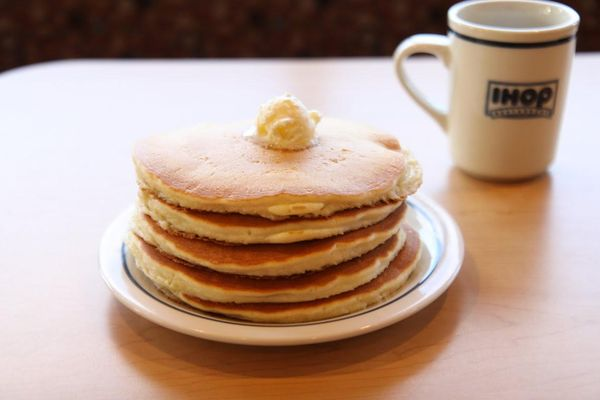soup: (124, 95, 423, 308)
